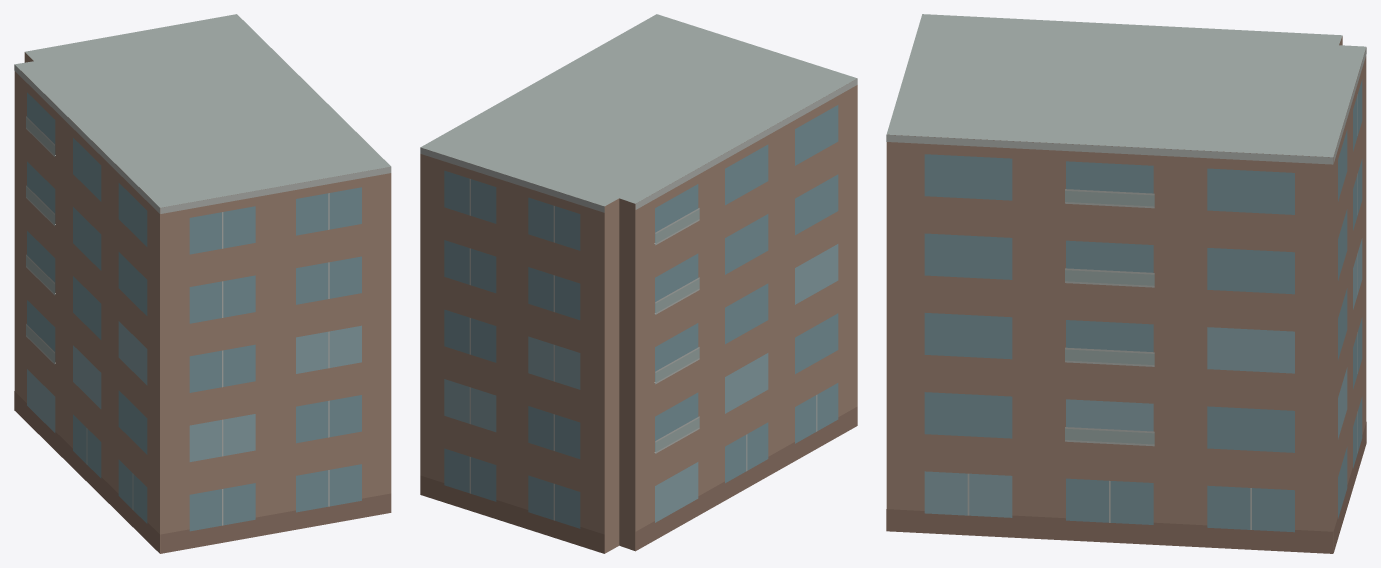
The model's file is survey-upis-32873777.glb.
3 views of the same model, side by side, from view 1: azimuth 30°, elevation 25°; view 2: azimuth 150°, elevation 25°; view 3: azimuth 270°, elevation 25° (orthographic). The views are drawn at different scales.
Parts seen in each view (by area): view 1: survey-upis-32873777.tmp; view 2: survey-upis-32873777.tmp; view 3: survey-upis-32873777.tmp.
Boxes of the visible parts, box(x1,y1,x2,y2) form: survey-upis-32873777.tmp: box(14, 14, 391, 553); survey-upis-32873777.tmp: box(420, 14, 857, 553); survey-upis-32873777.tmp: box(886, 14, 1366, 553).
Bounding box in the file's own units: 10.32 × 13.3 × 14.6.
